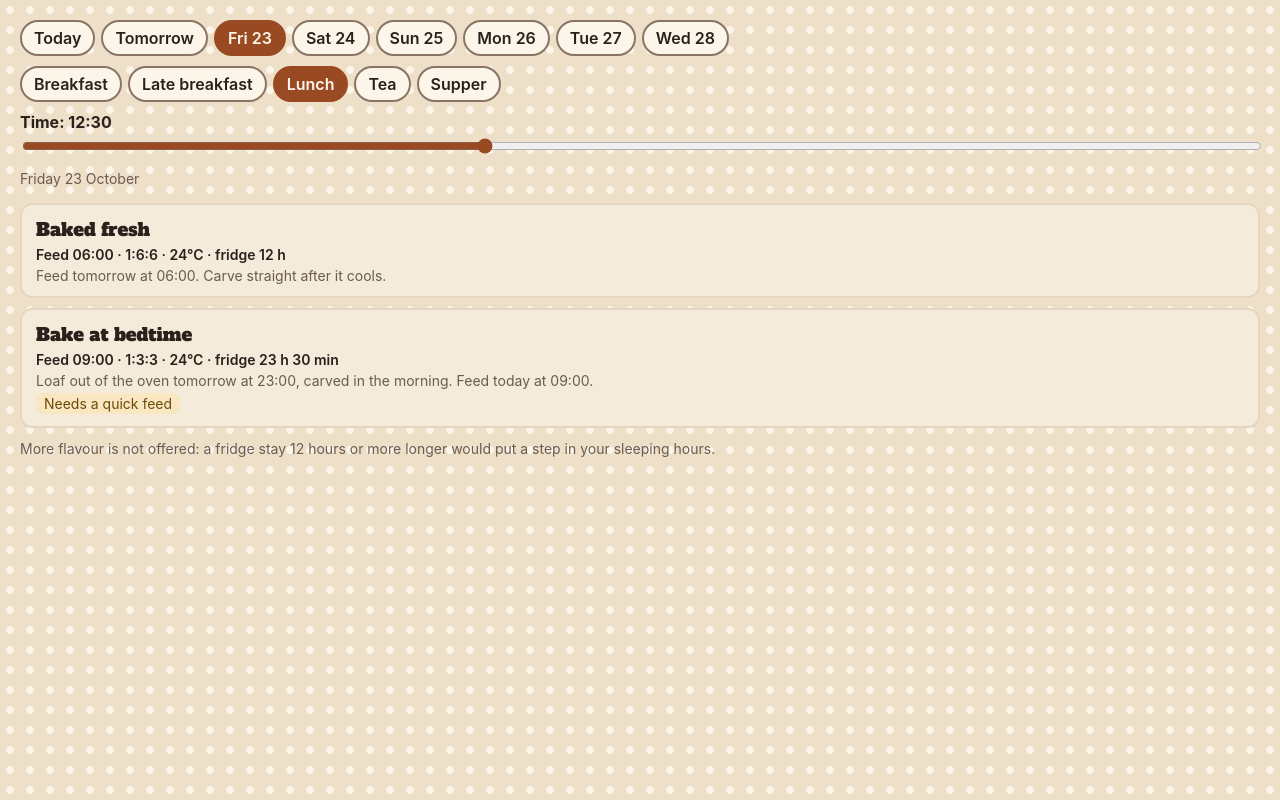
Test: Bread at › shows plan cards for the default time and opens one with its timeline and levers
Click the button that starts with "Baked fresh": [93, 230] box [20, 203, 1260, 298]
(page scrolled)
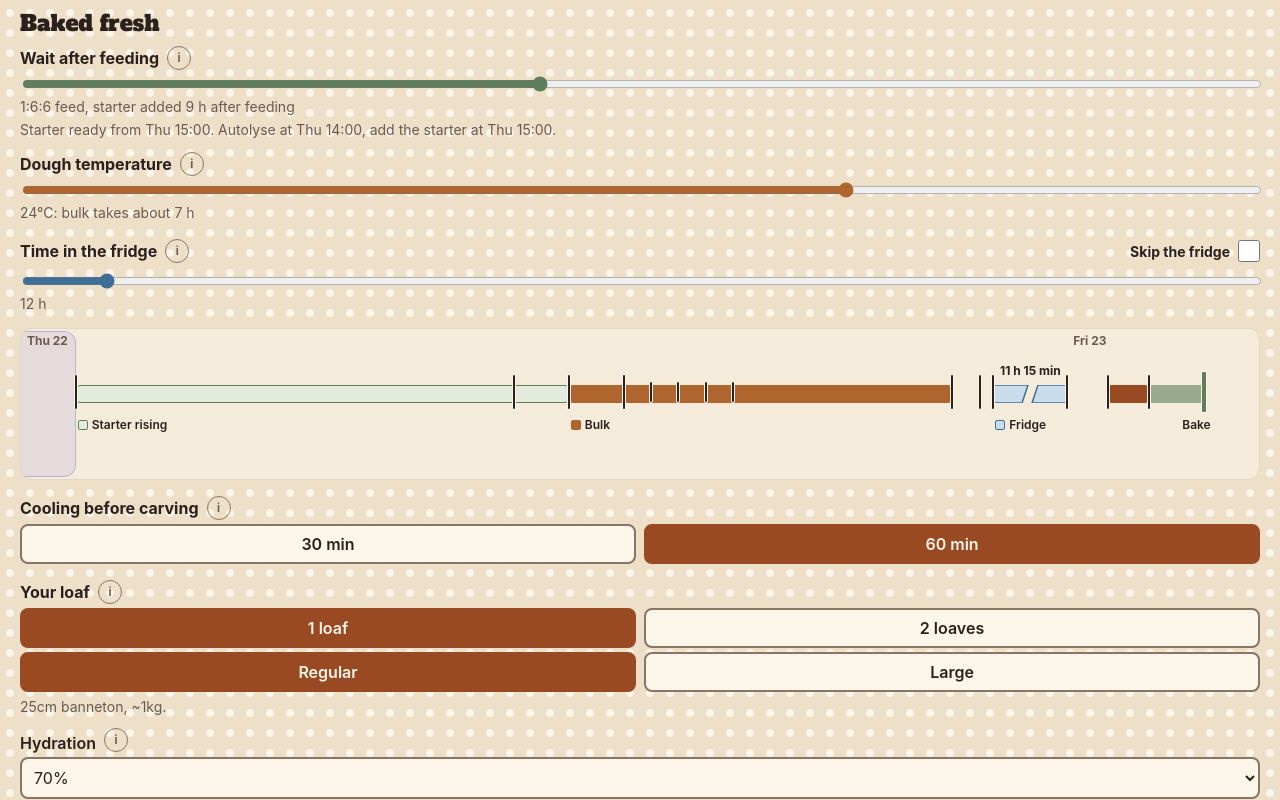
Now the slider labelled "Time in the fridge" is shown, box [22, 273, 1262, 289]
